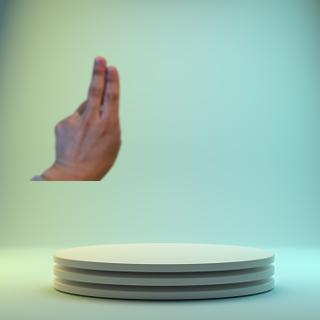DHAVE: (49, 53, 127, 173)
